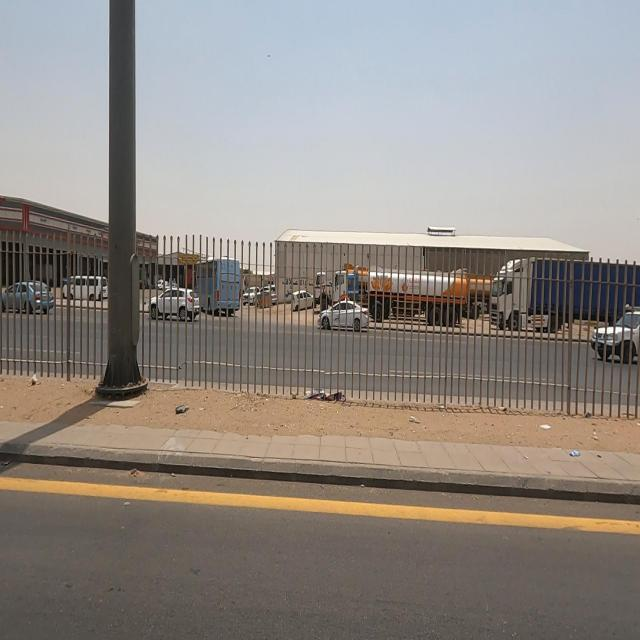debris: (238, 324, 392, 452), (503, 382, 571, 458), (384, 379, 446, 452), (150, 380, 220, 440), (544, 427, 610, 487), (18, 342, 57, 413)
